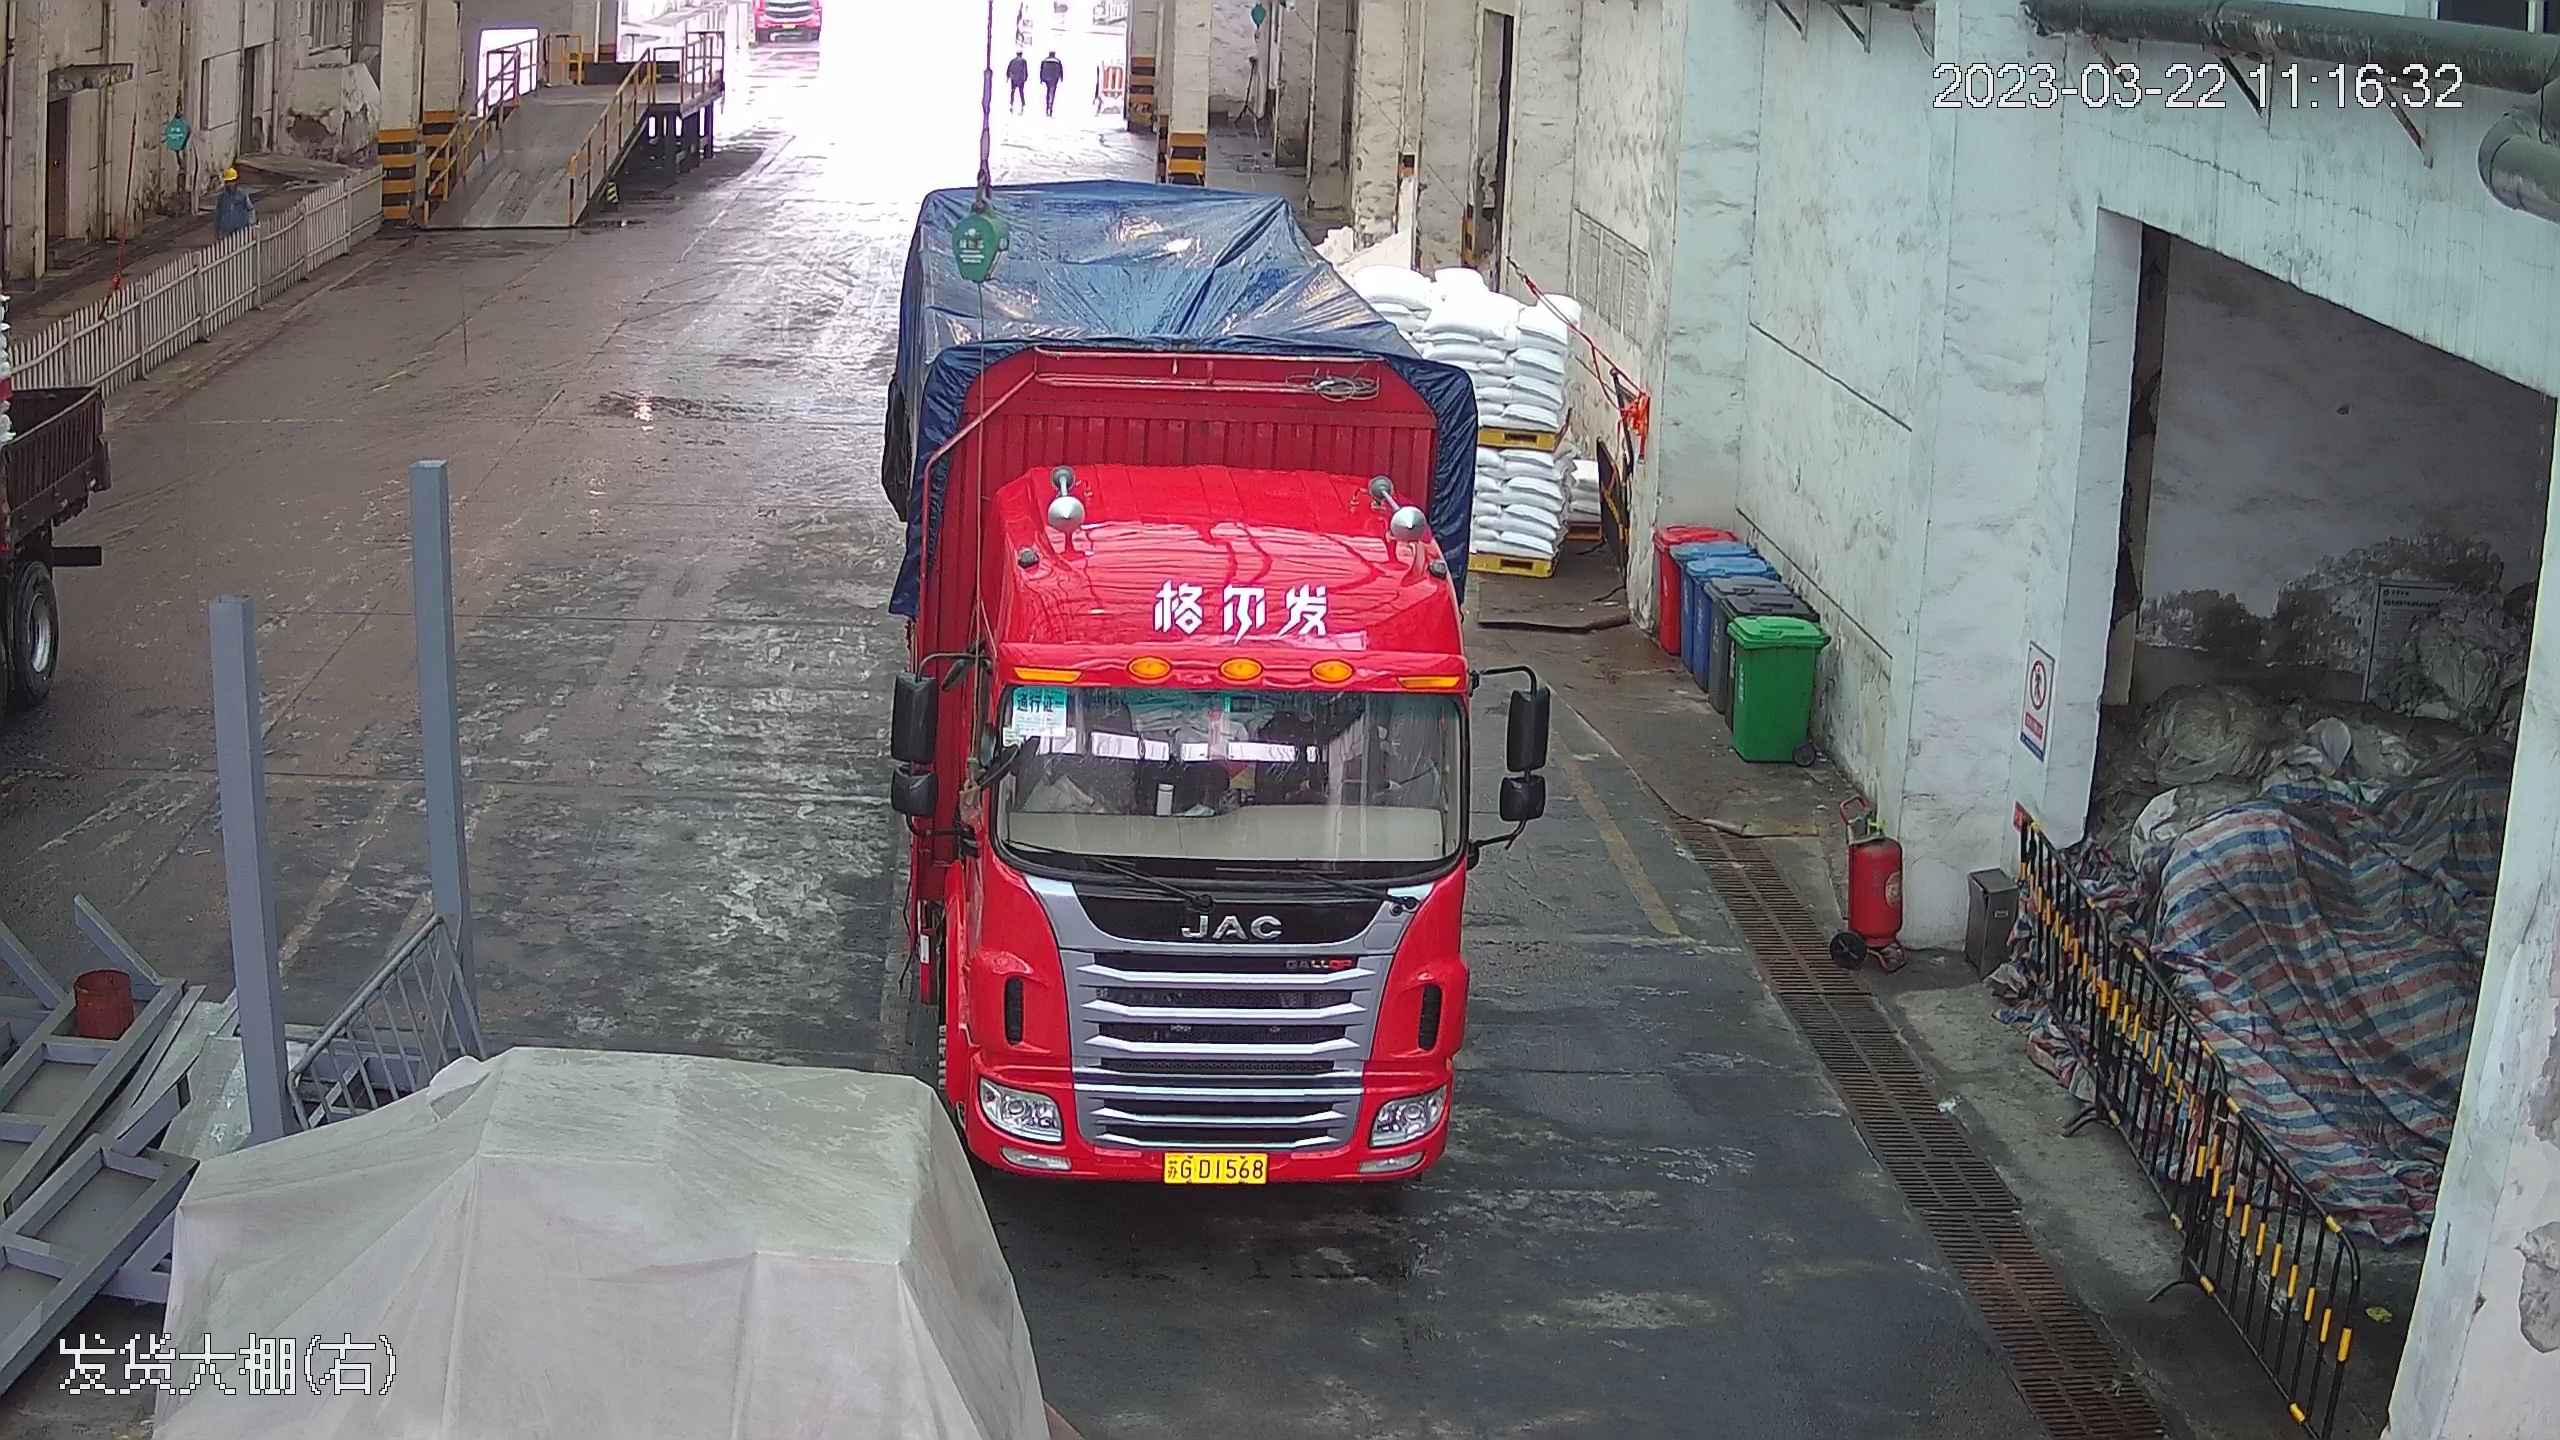head: (211, 160, 248, 202), (1041, 48, 1061, 73), (1009, 49, 1027, 75)
helmet: (217, 160, 241, 180), (1015, 50, 1023, 54), (1048, 51, 1057, 55)
people: (207, 157, 252, 238), (1034, 48, 1063, 113), (1006, 49, 1030, 112)
truck: (859, 77, 1530, 1211)
